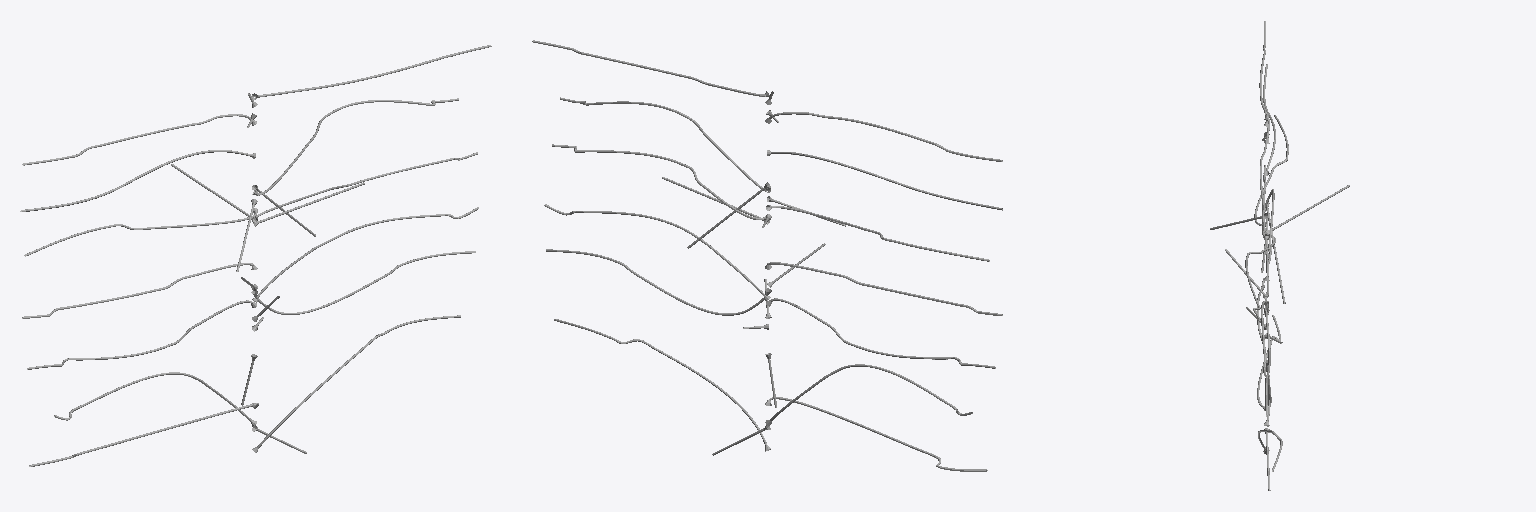
URDF robot description (ur5e):

        <robot name="ur5e" xmlns:xacro="http://ros.org/wiki/xacro">
            <link name="tree">
                <visual>
                    <geometry>
                        <mesh filename="meshes_and_urdf\meshes\trees\envy\train_labelled_split\tree_21_BRANCH.obj" scale="1 1 1"/>
                    </geometry>
                    <material name="LightGrey">
                        <color rgba="0.7 0.7 0.7 0.0"/>
                    </material>
                </visual>
                <collision concave="true">
                    <geometry>
                        <mesh filename="meshes_and_urdf\meshes\trees\envy\train_labelled_split\tree_21_BRANCH.obj" scale="1 1 1"/>
                    </geometry>
                </collision>
                <inertial>
                    <mass value="4.0"/>
                    <origin rpy="0 0 0" xyz="0.0 0.0 0.0"/>
                    <inertia ixx="0.00443333156" ixy="0.0" ixz="0.0" iyy="0.00443333156" iyz="0.0" izz="0.0072"/>
                </inertial>
            </link>
            <link name="world"/>
            <joint name="tree_joint" type="fixed">
                <parent link="world"/>
                <child link="tree"/>
                <origin rpy="0.0 0.0 0.0" xyz="0.0 0.0 0.0"/>
            </joint>
        </robot>
        

--- What the picture shows (computed from the rendered views, not written in the file) ---
3 views of the same robot in one strip: view 1: azimuth 30°, elevation 25°; view 2: azimuth 150°, elevation 25°; view 3: azimuth 270°, elevation 25° (orthographic).
Robot: ur5e — 2 links, 1 joints (1 fixed); root link world; default pose: every joint at zero.
Links seen in each view (by area): view 1: tree; view 2: tree; view 3: tree.
Boxes of the visible links, bbox=[...] form: tree: bbox=[20, 45, 491, 466]; tree: bbox=[532, 40, 1002, 471]; tree: bbox=[1210, 21, 1349, 490].
Bounding box of the posed robot: 4.32 × 1.19 × 3.31 m (x, y, z).
1 mesh visuals loaded from 1 distinct referenced files (1 OBJ).
